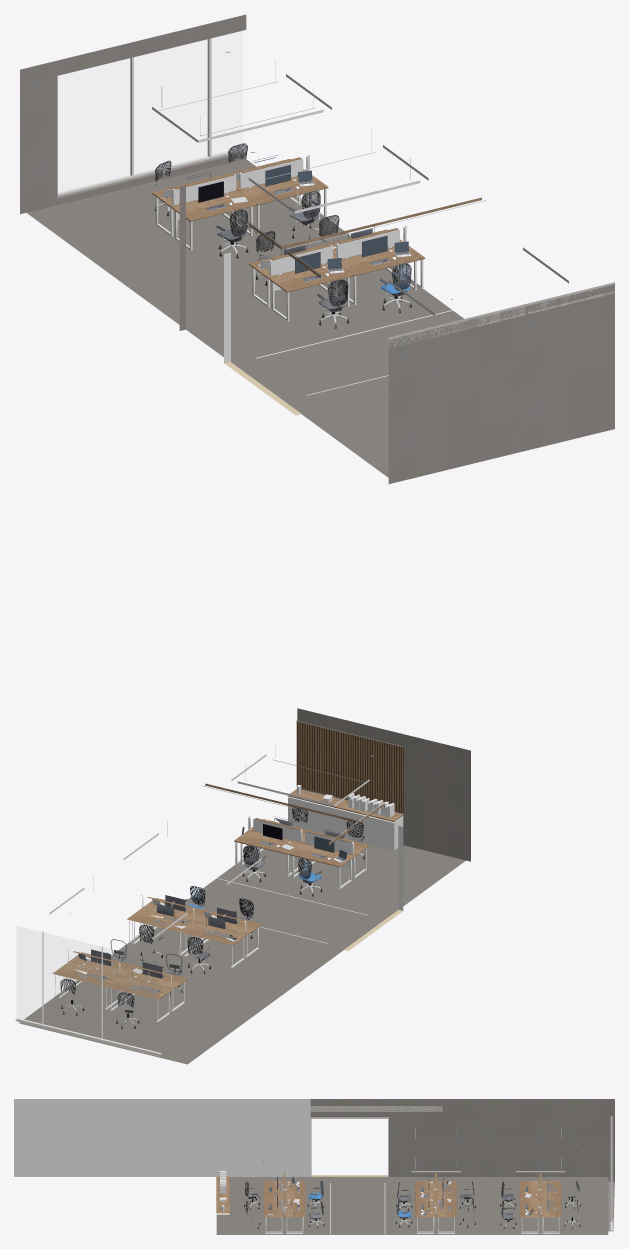
The model's file is z-open_w-lite.full.7146cd69.glb.
3 renders of one model, top to bottom at view 1: azimuth 30°, elevation 25°; view 2: azimuth 150°, elevation 25°; view 3: azimuth 270°, elevation 25°, orthographic. The views are drawn at different scales.
Visible parts, largest first — view 1: open_w_plaster, open_w_carpet, open_w_satin, open_w_oak, open_w_fx, open_w_emit, open_w_metal_satin; view 2: open_w_carpet, open_w_plaster, open_w_satin, open_w_oak, open_w_proxy_slat, open_w_fx, open_w_metal_satin, open_w_emit; view 3: open_w_satin, open_w_plaster, open_w_carpet, open_w_oak, open_w_fx, open_w_metal_satin.
Part boxes in pixels (x1,y1,x2,y2): open_w_plaster: (20, 14, 614, 483); open_w_carpet: (26, 159, 463, 477); open_w_satin: (57, 38, 568, 395); open_w_oak: (152, 155, 481, 292); open_w_fx: (154, 143, 411, 328); open_w_emit: (158, 81, 486, 314); open_w_metal_satin: (158, 51, 411, 415); open_w_carpet: (19, 841, 465, 1064); open_w_plaster: (15, 708, 470, 1056); open_w_satin: (16, 742, 403, 1053); open_w_oak: (52, 783, 403, 999); open_w_proxy_slat: (296, 721, 403, 812); open_w_fx: (60, 807, 364, 1028); open_w_metal_satin: (57, 827, 403, 1025); open_w_emit: (179, 720, 402, 912); open_w_satin: (14, 1099, 612, 1234); open_w_plaster: (310, 1099, 614, 1231); open_w_carpet: (216, 1177, 608, 1234); open_w_oak: (216, 1173, 561, 1217); open_w_fx: (244, 1176, 580, 1228); open_w_metal_satin: (249, 1150, 582, 1226).
Size of the model in its own units: 5.4 by 3.35 by 23.
10 materials, 5 textured.
